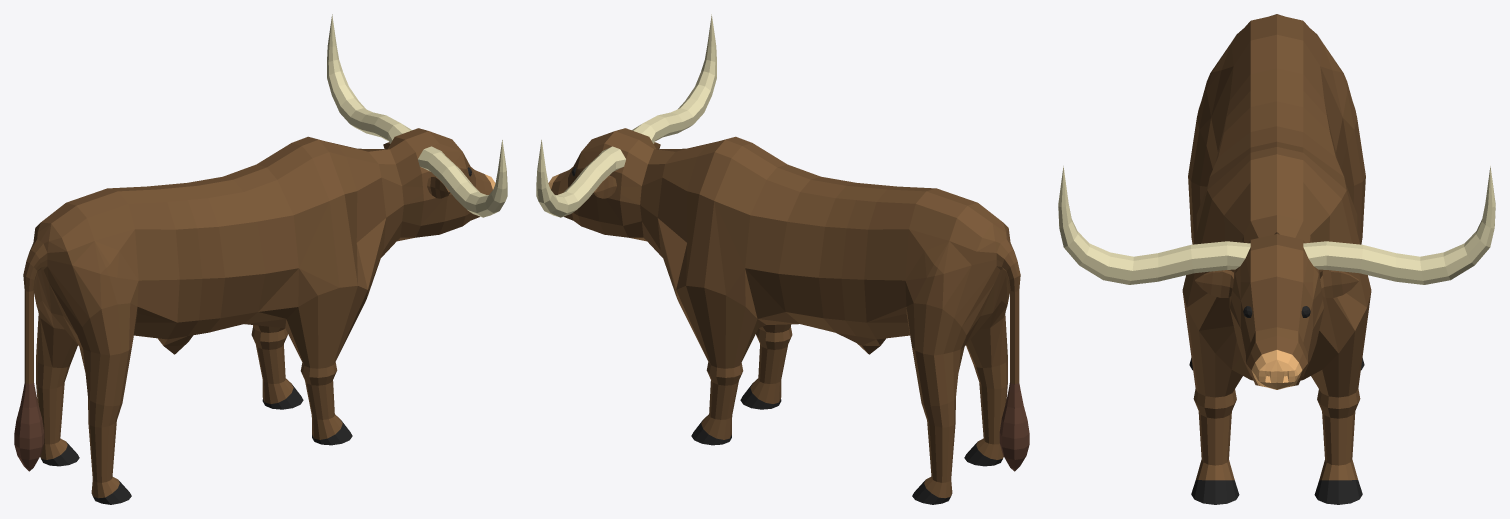
The model's file is longhorn.glb.
3 renders of one model, left to right at view 1: azimuth 30°, elevation 25°; view 2: azimuth 150°, elevation 25°; view 3: azimuth 270°, elevation 25°, orthographic. The views are drawn at different scales.
Visible parts, largest first — view 1: Plane; view 2: Plane; view 3: Plane.
Part boxes in pixels (x1,y1,x2,y2): Plane: (14, 14, 507, 504); Plane: (536, 14, 1029, 504); Plane: (1058, 14, 1495, 504).
Bounding box in the file's own units: 7.88 × 5.06 × 4.98.
